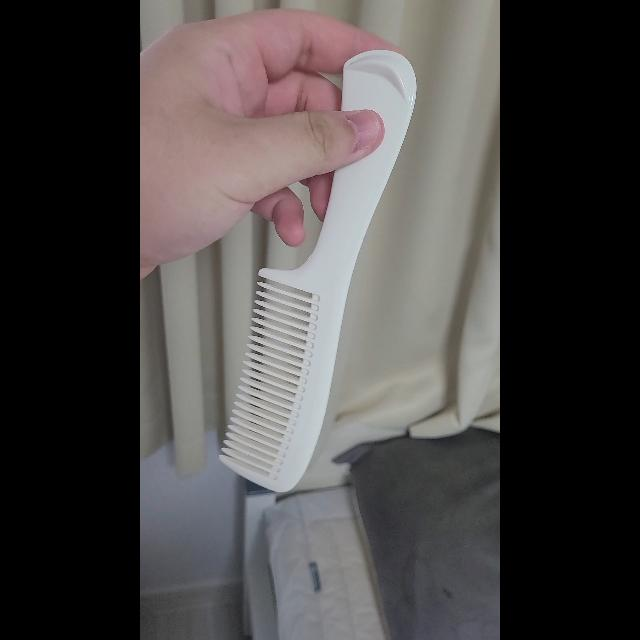COMB: (218, 50, 416, 492)
